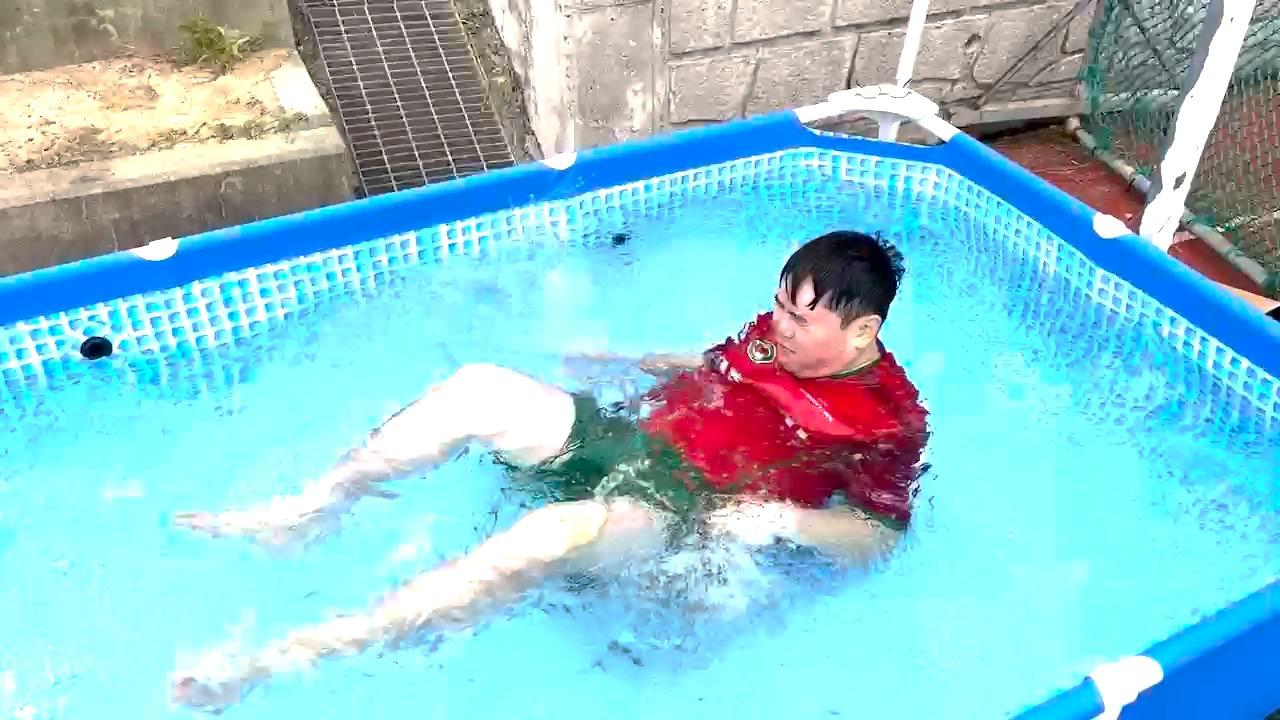Drowning: (141, 173, 975, 720)
